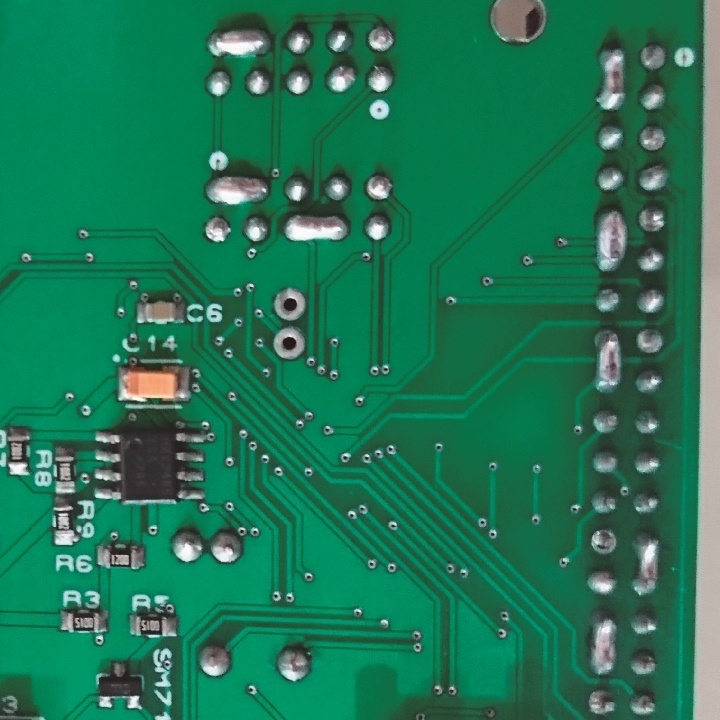F: (268, 283, 308, 320), (267, 326, 309, 358), (637, 198, 667, 236), (200, 213, 233, 246), (365, 20, 397, 54), (363, 172, 396, 202), (639, 40, 669, 72), (639, 123, 669, 155), (590, 526, 618, 560), (636, 324, 664, 355)
P: (202, 172, 276, 212), (204, 23, 272, 59), (594, 43, 627, 114), (279, 213, 350, 244), (633, 530, 664, 600), (596, 205, 627, 274), (588, 612, 618, 683), (592, 328, 619, 394)
